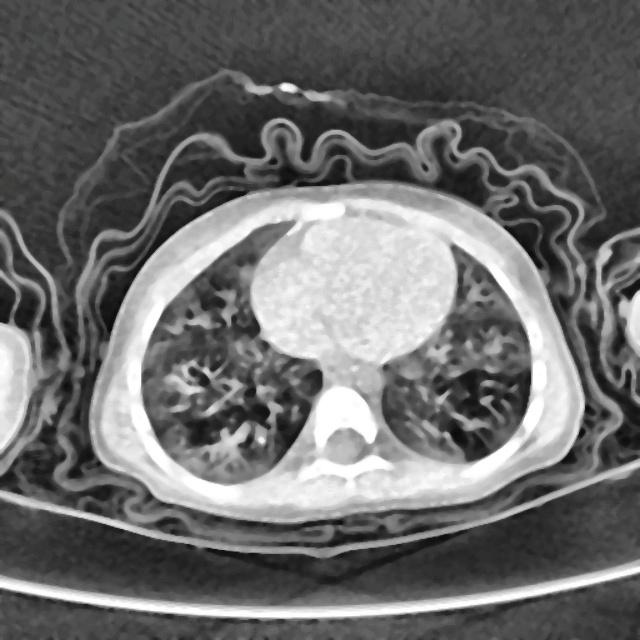covid: (87, 179, 585, 523)
